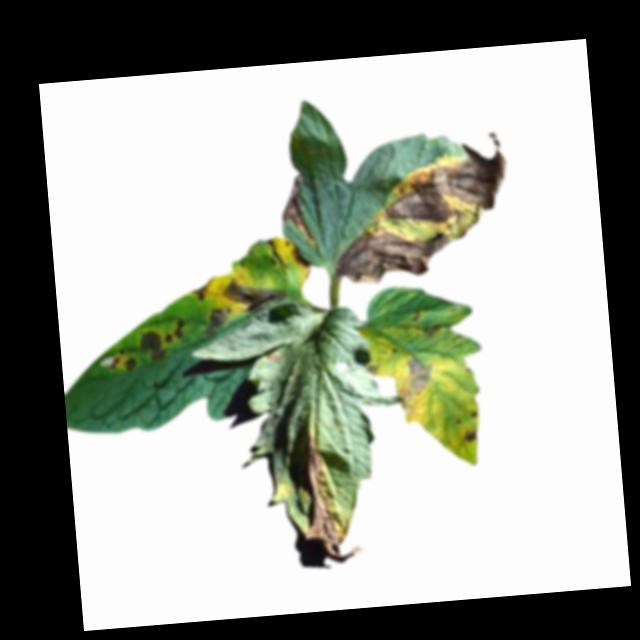Early_blight: (362, 128, 513, 227), (328, 219, 479, 288), (295, 428, 367, 566), (223, 271, 288, 318), (278, 171, 320, 243), (395, 350, 434, 412), (137, 327, 166, 362), (199, 303, 228, 337), (108, 348, 138, 372), (163, 317, 188, 343), (190, 278, 214, 305), (288, 244, 312, 268), (418, 322, 443, 340), (462, 424, 480, 443), (410, 309, 426, 324)
